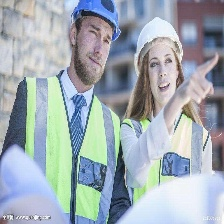helmet: (130, 13, 188, 66), (70, 0, 121, 44)
person: (14, 0, 124, 224), (126, 17, 214, 209)
vest: (19, 72, 123, 224)
